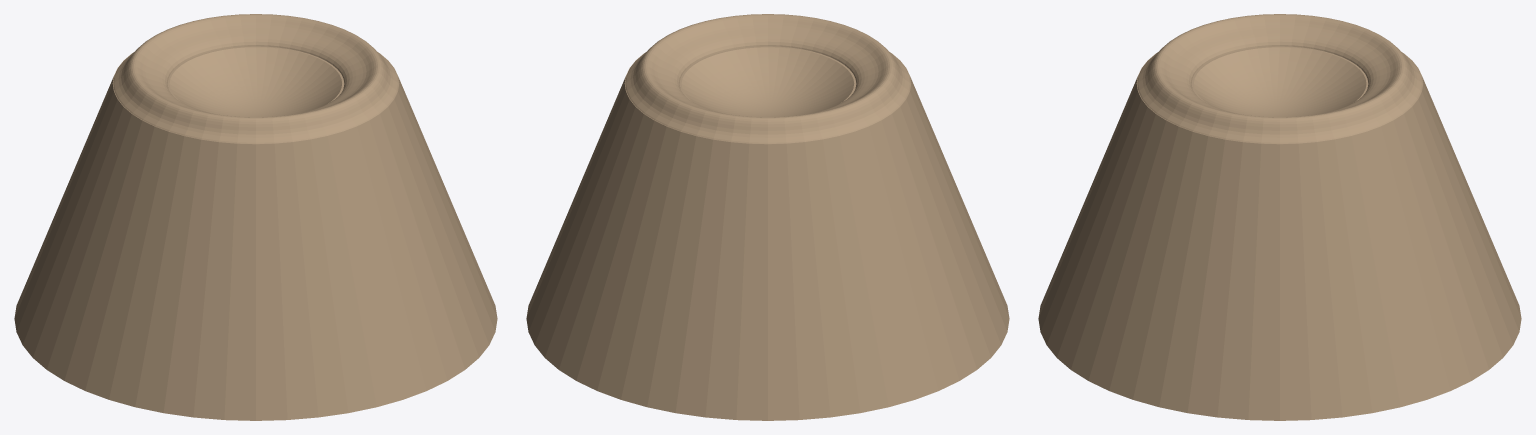
The model's file is crater_blender.glb.
The picture shows the model from 3 angles, left to right: view 1: azimuth 30°, elevation 25°; view 2: azimuth 150°, elevation 25°; view 3: azimuth 270°, elevation 25°; orthographic projection.
Visible parts, largest first — view 1: Mesh_Mesh_head_geo.001_lambert2SG.001; view 2: Mesh_Mesh_head_geo.001_lambert2SG.001; view 3: Mesh_Mesh_head_geo.001_lambert2SG.001.
Boxes of the visible parts, bbox=[...] form: Mesh_Mesh_head_geo.001_lambert2SG.001: bbox=[14, 14, 497, 420]; Mesh_Mesh_head_geo.001_lambert2SG.001: bbox=[526, 14, 1009, 420]; Mesh_Mesh_head_geo.001_lambert2SG.001: bbox=[1038, 14, 1521, 420].
Size of the model in its own units: 17.5 by 10.1 by 17.5.
